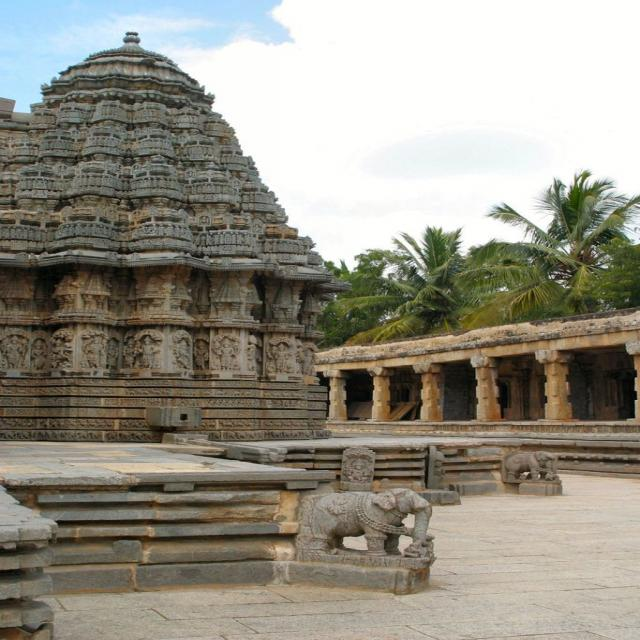elephant: (287, 470, 443, 572), (502, 450, 558, 483)
